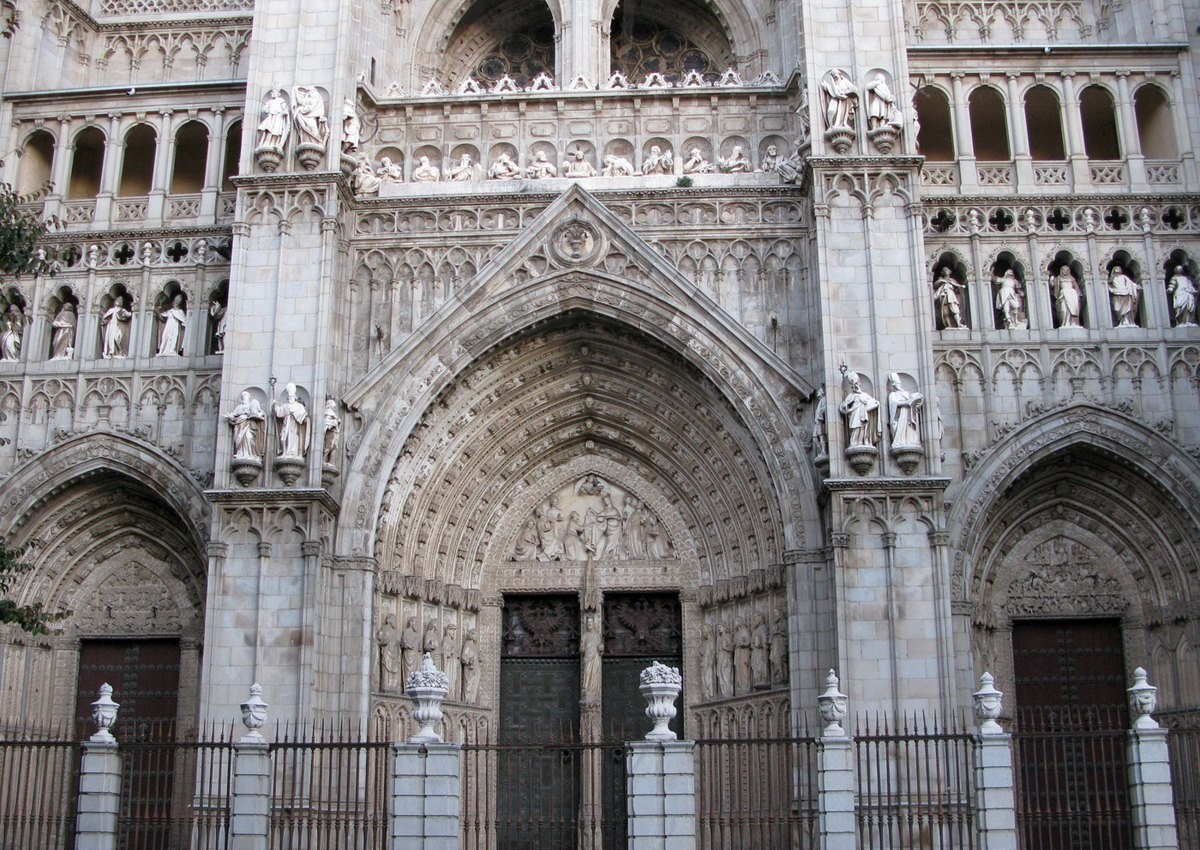arco-apuntado: (335, 265, 829, 553), (952, 401, 1200, 600), (1, 456, 204, 630)
